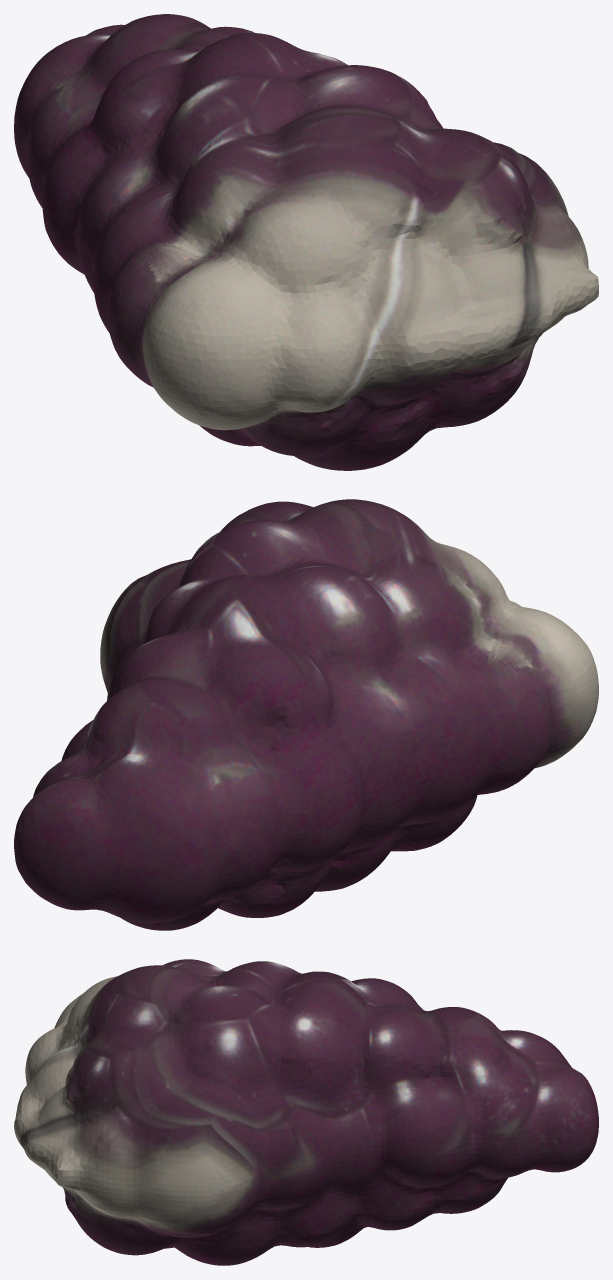
File: grape.obj
The picture shows the model from 3 angles, top to bottom: view 1: azimuth 30°, elevation 25°; view 2: azimuth 150°, elevation 25°; view 3: azimuth 270°, elevation 25°; orthographic projection. The views are drawn at different scales.
Visible parts, largest first — view 1: Copy of Fast fusion 2; view 2: Copy of Fast fusion 2; view 3: Copy of Fast fusion 2.
Part boxes in pixels (box(x1,y1,x2,y2)): Copy of Fast fusion 2: box(14, 14, 598, 470); Copy of Fast fusion 2: box(14, 499, 598, 930); Copy of Fast fusion 2: box(14, 959, 598, 1265).
Bounding box in the file's own units: 68.69 × 50.48 × 99.19.
Materials: 1 (1 with a texture image).
